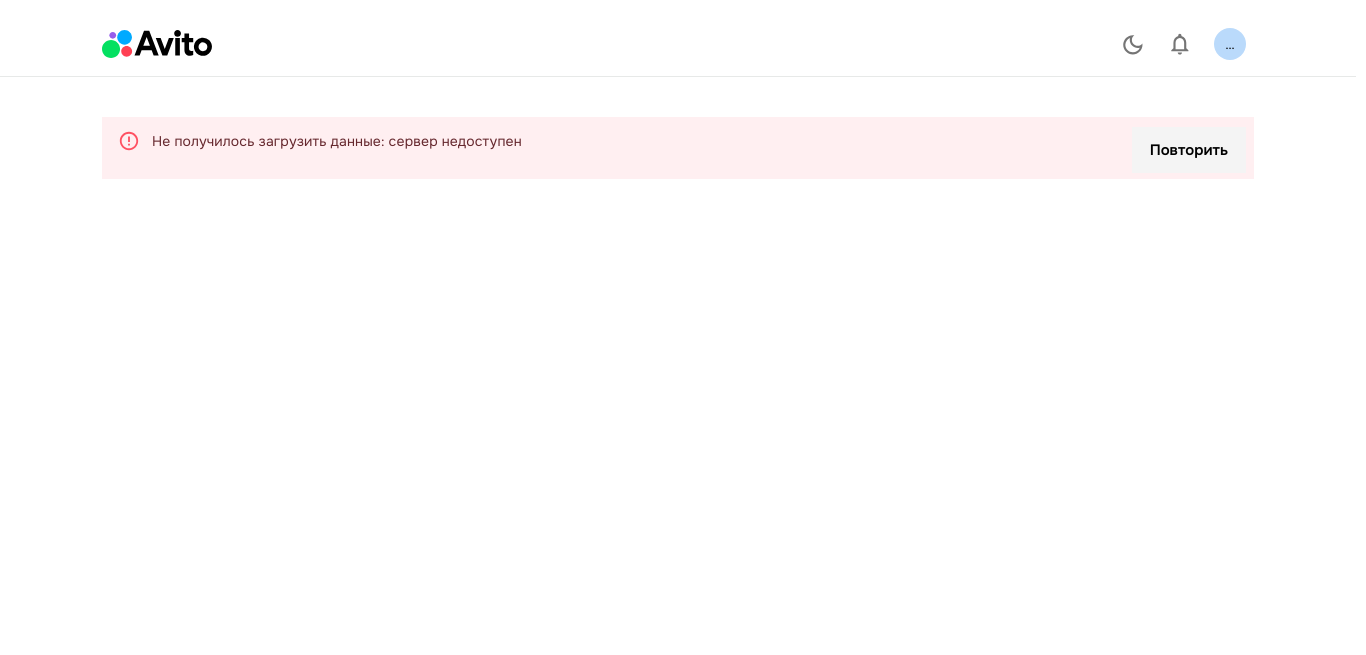
Test case: стажёр › при ошибке загрузки показывает понятный текст и «Повторить»
This screenshot has width=1366, height=655.
Expected: the text "Не получилось загрузить данные: сервер недоступен" is shown, [152,132,522,150]
Click the button "Повторить".
click(1189, 150)  # box [1132,127,1246,173]
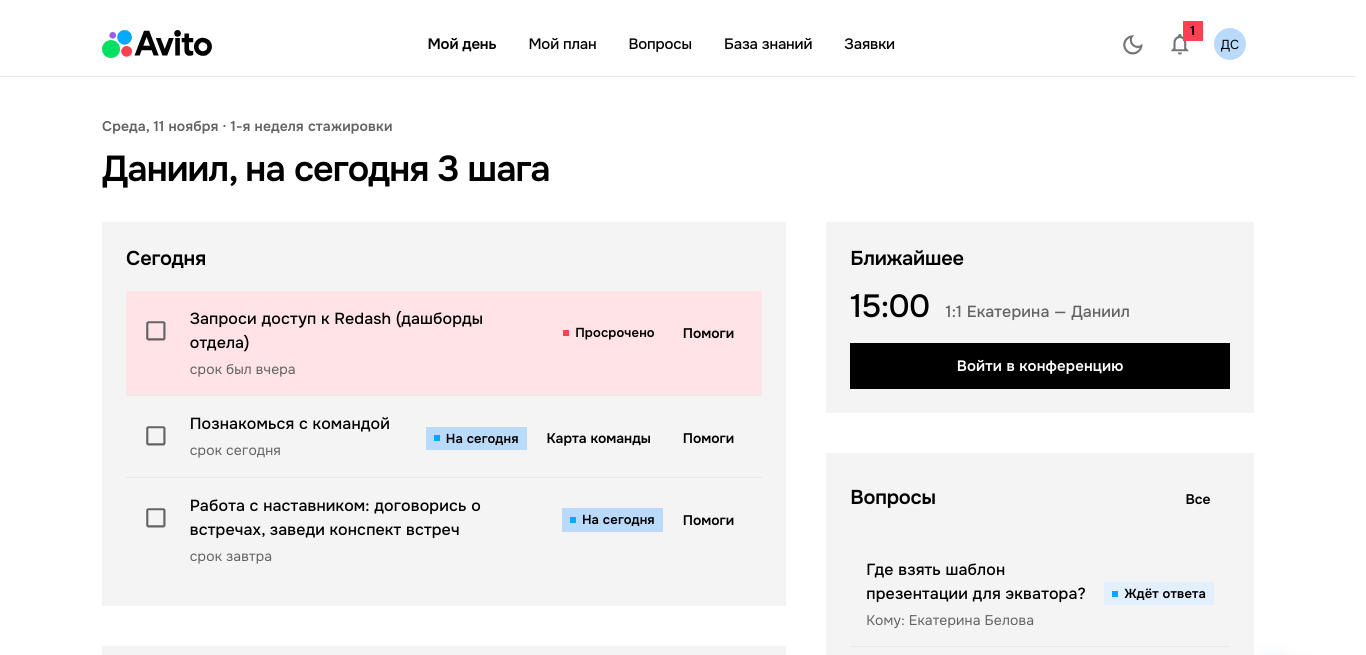
Now the heading "Даниил, на сегодня 3 шага" is shown, box [102,149,550,190]
